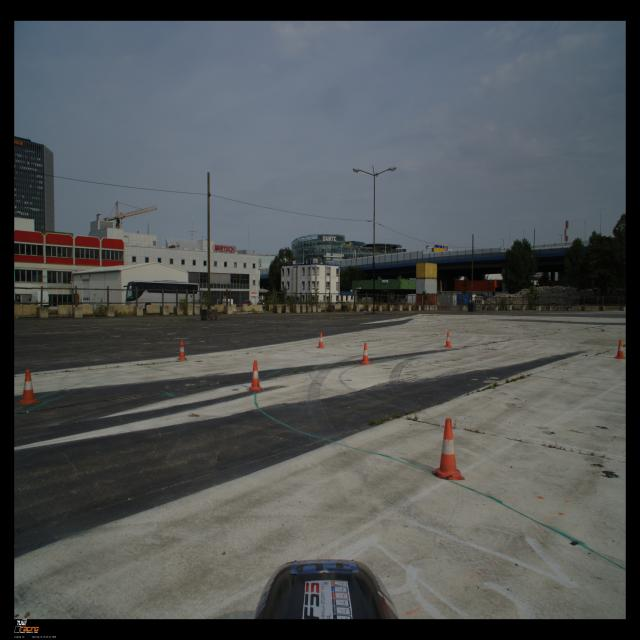orange_cone: (432, 418, 466, 480), (16, 369, 40, 405), (247, 361, 264, 392), (359, 342, 371, 365), (613, 340, 626, 360), (176, 340, 188, 360), (444, 332, 452, 348), (317, 332, 324, 348)
